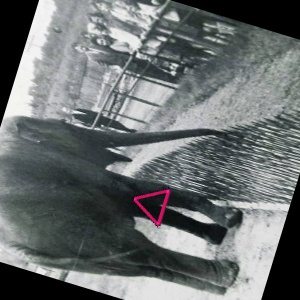triangle: (131, 187, 171, 228)
